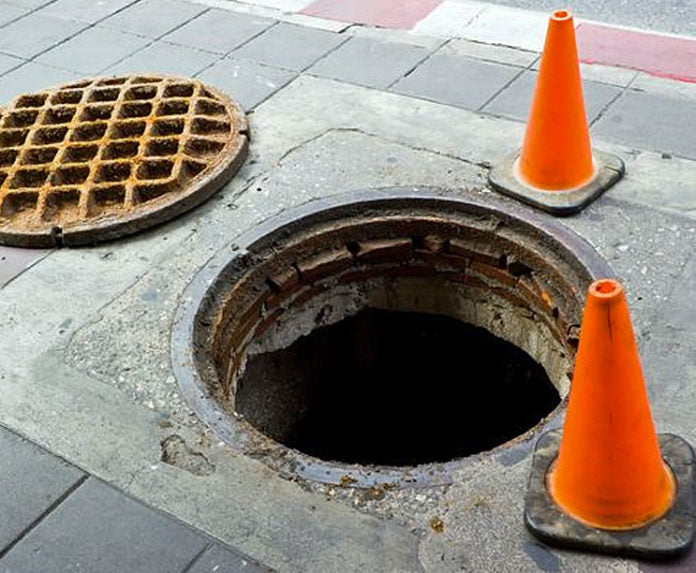Open_manhole: (58, 166, 550, 510)
Road_cone: (538, 282, 694, 553), (505, 10, 629, 219)
